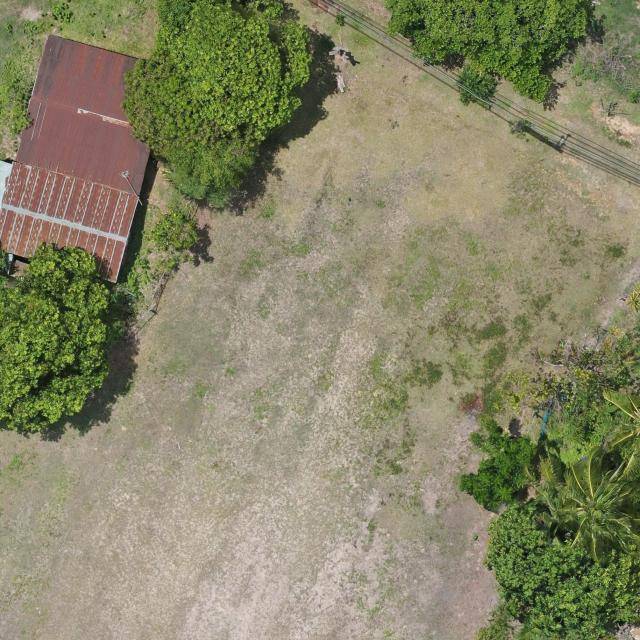Tree: (122, 7, 313, 206), (347, 0, 608, 107), (0, 240, 121, 441), (482, 500, 640, 638), (523, 442, 640, 568), (458, 414, 540, 514), (603, 376, 640, 482), (150, 0, 250, 29), (150, 207, 203, 253), (0, 204, 13, 327)
